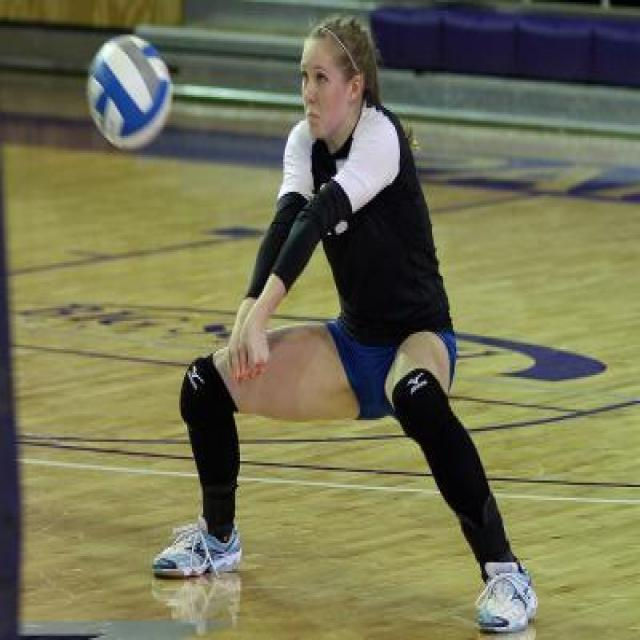volleyball: (88, 33, 174, 151)
